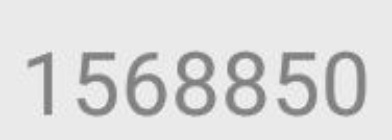TextView: (1, 1, 391, 139)
